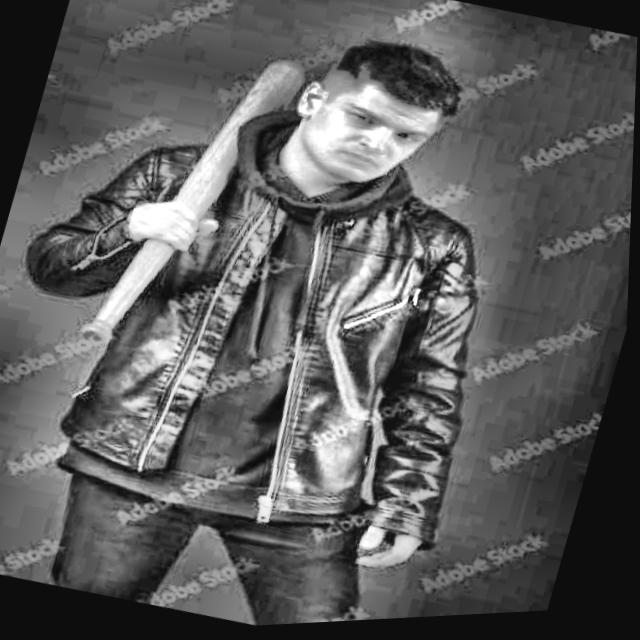tongkat pemukul: (73, 44, 310, 352)
